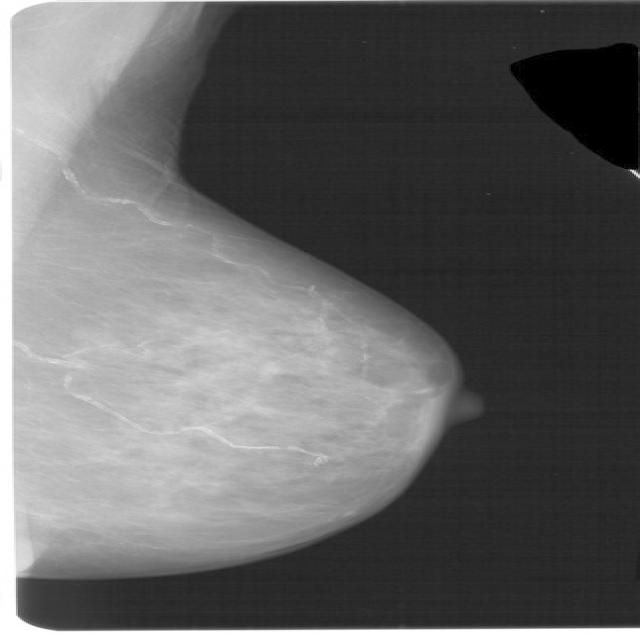tumour: (165, 366, 219, 389)
